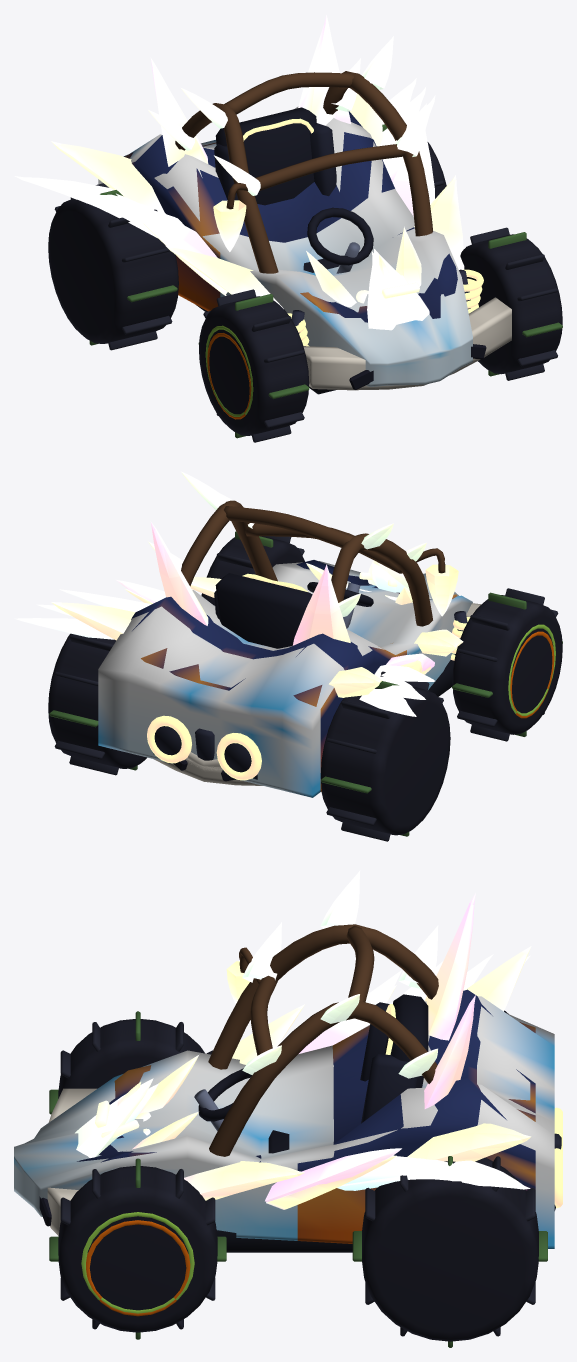
File: karts.glb
3 views of the same model, one above another, from view 1: azimuth 30°, elevation 25°; view 2: azimuth 150°, elevation 25°; view 3: azimuth 270°, elevation 25° (orthographic). The views are drawn at different scales.
Visible parts, largest first — view 1: rello_chassis, fenn_chassis, moki_chassis, moki_wheel_fl, moki_wheel_rl, moki_wheel_fr, rello_wheel_rl, chora_chassis, rello_wheel_fl; view 2: fenn_chassis, rello_chassis, moki_wheel_rl, moki_chassis, moki_wheel_fl, moki_wheel_rr, rello_wheel_rl, rello_wheel_fl, moki_wheel_fr, chora_chassis; view 3: rello_chassis, fenn_chassis, moki_chassis, rello_wheel_rr, moki_wheel_rr, moki_wheel_fr, rello_wheel_fr, moki_wheel_fl, chora_chassis.
Boxes of the visible parts, x1,y1,x2,y2 form: rello_chassis: (51, 15, 511, 394); fenn_chassis: (14, 78, 472, 386); moki_chassis: (148, 36, 432, 330); moki_wheel_fl: (198, 289, 309, 442); moki_wheel_rl: (48, 183, 178, 350); moki_wheel_fr: (460, 227, 562, 380); rello_wheel_rl: (51, 214, 113, 339); chora_chassis: (116, 127, 434, 303); rello_wheel_fl: (203, 327, 255, 433); fenn_chassis: (14, 561, 472, 797); rello_chassis: (51, 521, 481, 791); moki_wheel_rl: (320, 671, 450, 841); moki_chassis: (148, 471, 458, 626); moki_wheel_fl: (452, 588, 562, 741); moki_wheel_rr: (48, 633, 146, 775); rello_wheel_rl: (385, 705, 444, 833); rello_wheel_fl: (508, 628, 557, 732); moki_wheel_fr: (201, 531, 304, 605); chora_chassis: (116, 572, 434, 671); rello_chassis: (39, 893, 562, 1252); fenn_chassis: (14, 954, 554, 1248); moki_chassis: (75, 870, 438, 1158); rello_wheel_rr: (377, 1199, 523, 1341); moki_wheel_rr: (352, 1156, 547, 1347); moki_wheel_fr: (49, 1158, 226, 1339); rello_wheel_fr: (77, 1216, 199, 1332); moki_wheel_fl: (49, 1011, 212, 1114); chora_chassis: (95, 970, 401, 1201).
Bounding box in the file's own units: 3.11 × 2.02 × 3.09.
